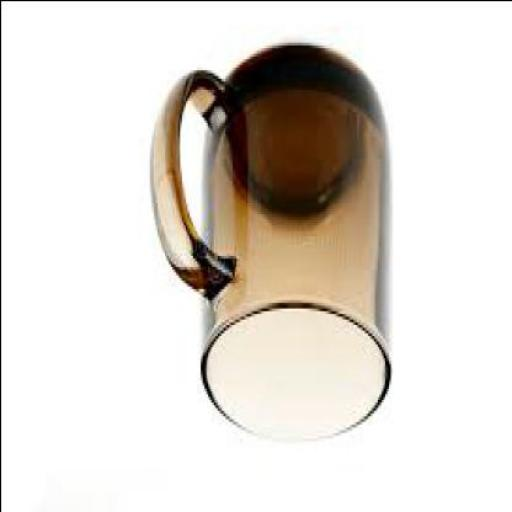glass: (148, 44, 394, 446)
